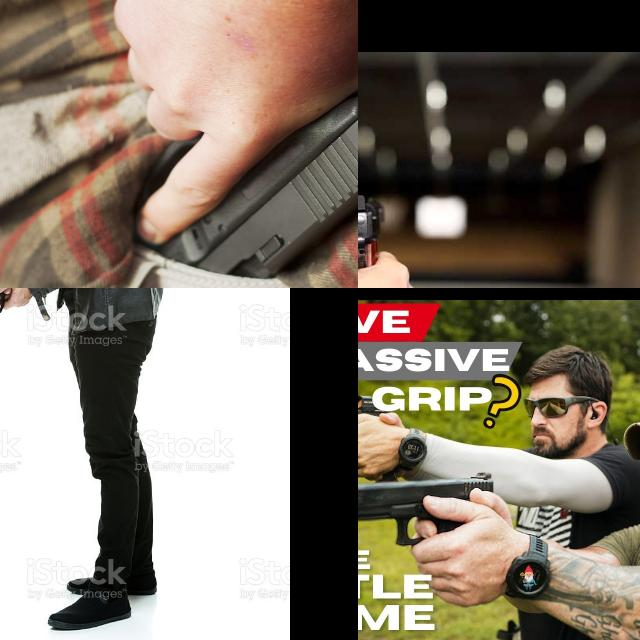handgun: (146, 82, 358, 288), (358, 468, 495, 547), (358, 188, 393, 276), (358, 393, 411, 450), (0, 288, 20, 342)
